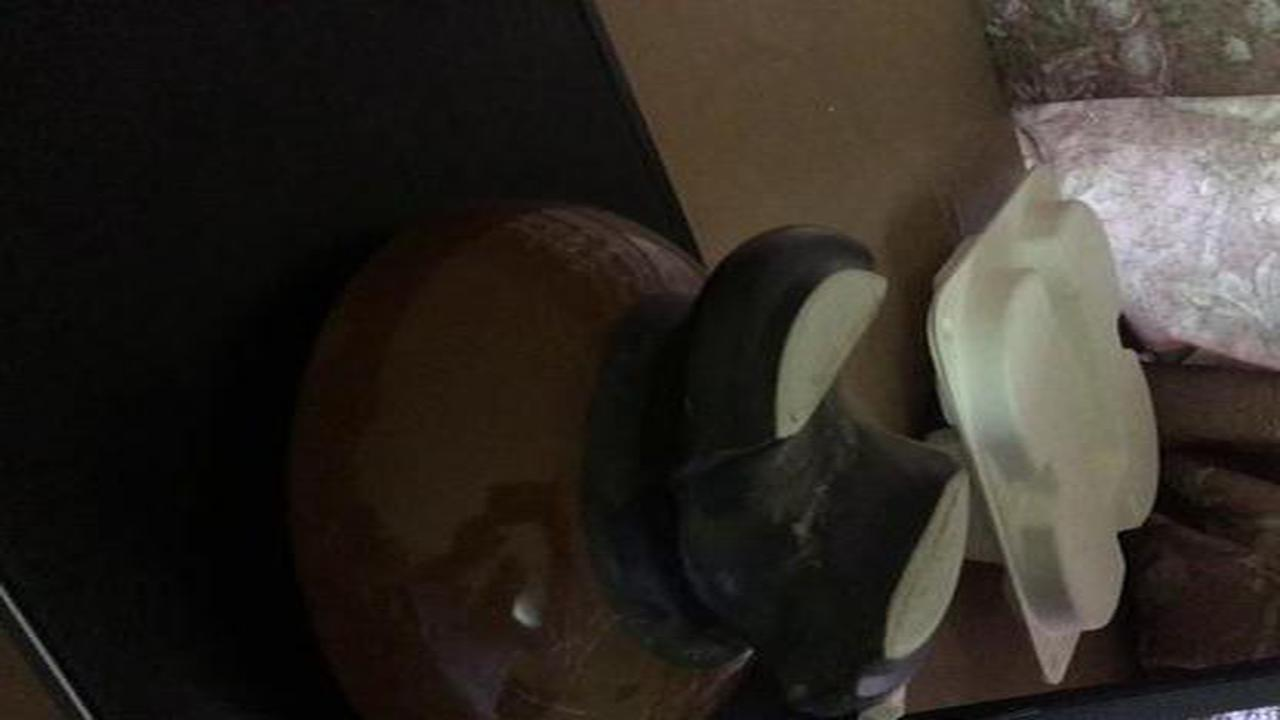insulator_pin: (259, 179, 994, 720)
